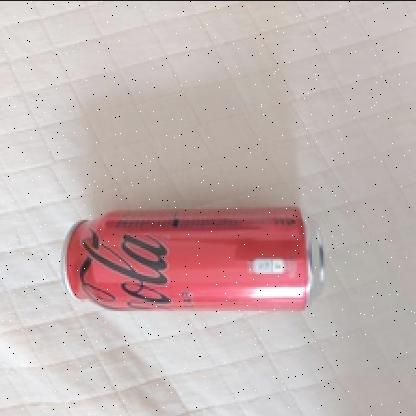Can: (64, 202, 326, 312)
